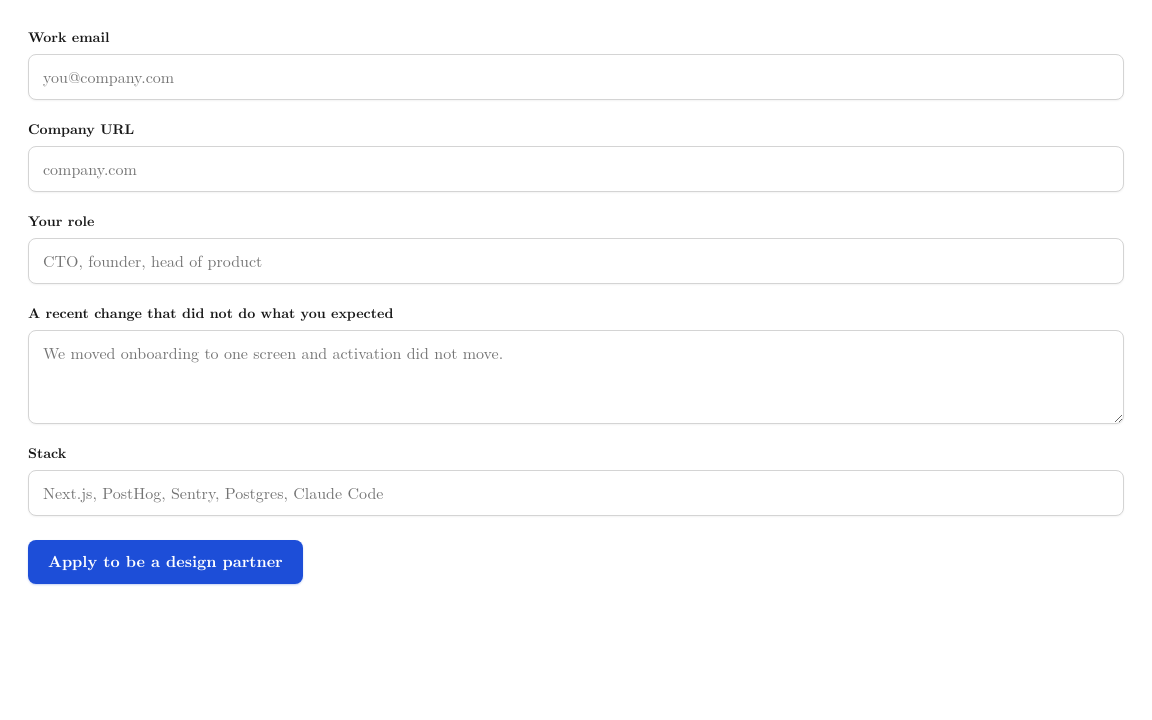
it: ApplyForm › on a server error offers the email fallback and keeps the values
The image size is (1152, 720).
Type "cto@acme.dev" into the field labelled "Work email".
click(576, 77); type("cto@acme.dev")  # box [28, 54, 1124, 100]
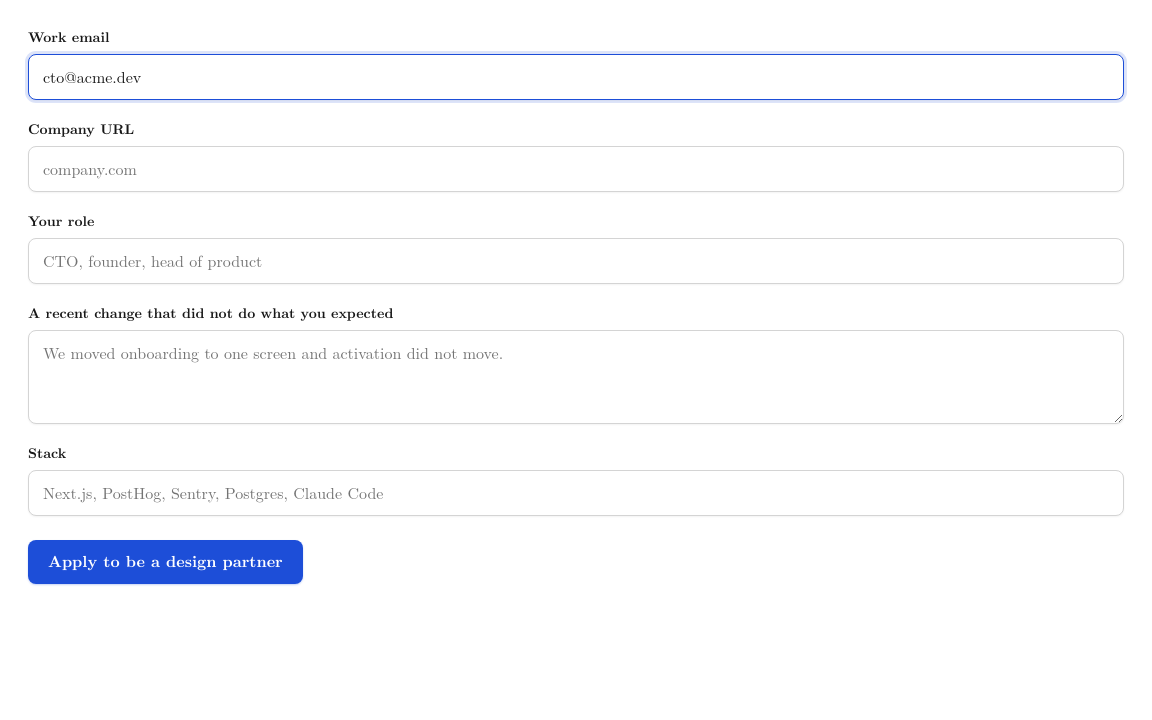
Type "acme.dev" into the field labelled "Company URL".
click(576, 169); type("acme.dev")  # box [28, 146, 1124, 192]
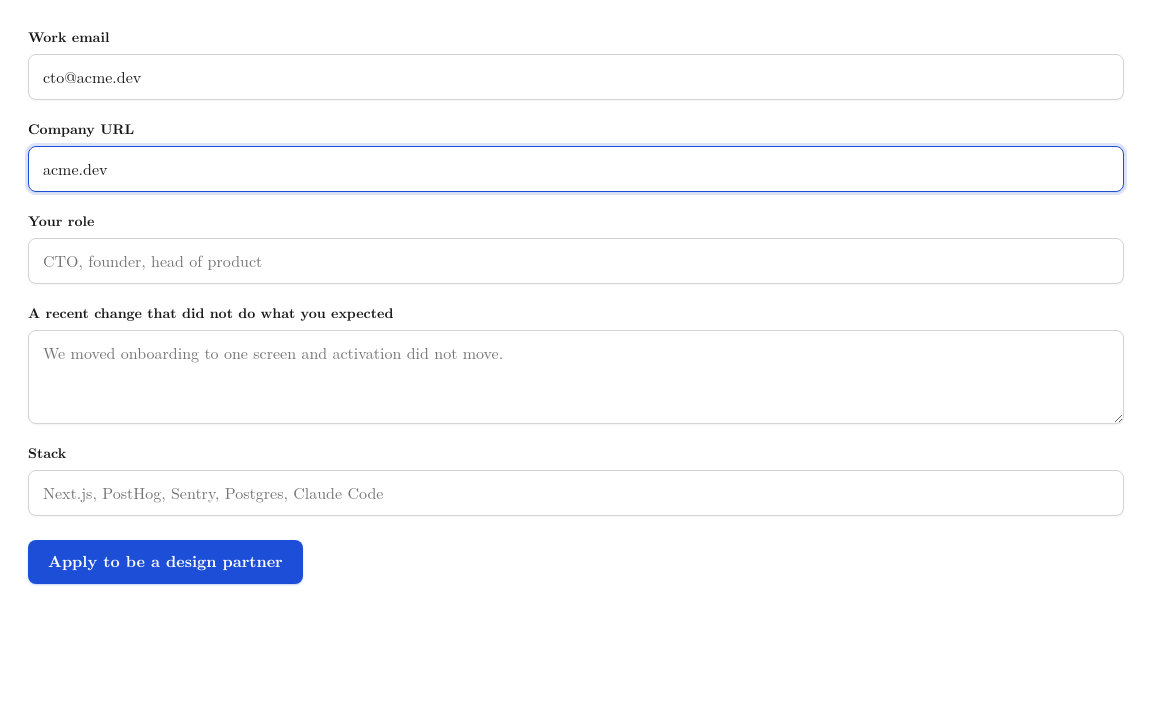
Type "CTO" into the field labelled "Your role".
click(576, 261); type("CTO")  # box [28, 238, 1124, 284]
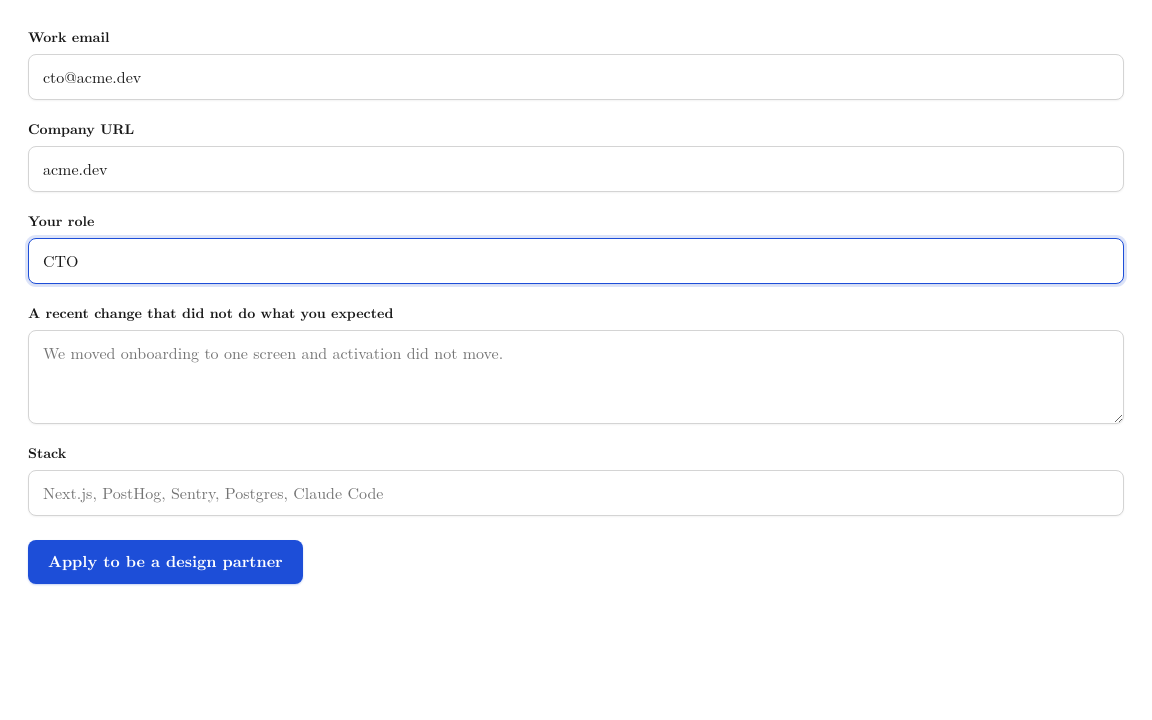
Type "We moved onboarding and nothing changed." into the text box labelled "A recent change that did not do what you expected".
click(576, 377); type("We moved onboarding and nothing changed.")  # box [28, 330, 1124, 424]
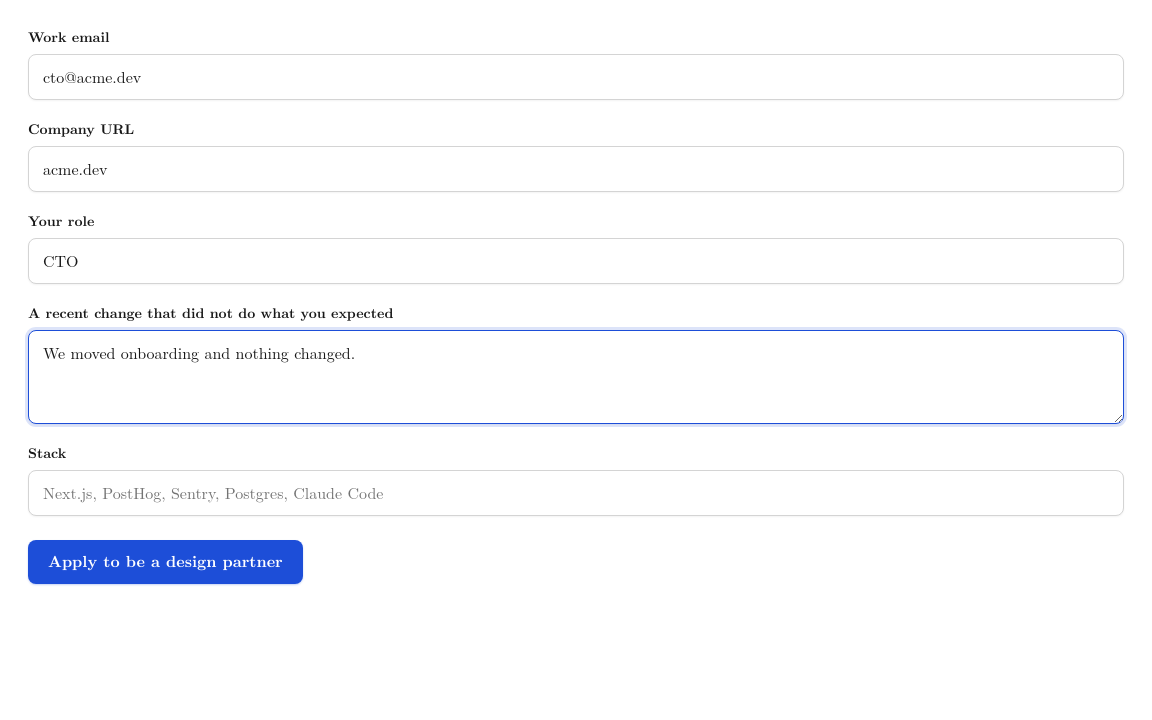
Type "Next.js, PostHog" into the field labelled "Stack".
click(576, 493); type("Next.js, PostHog")  # box [28, 470, 1124, 516]
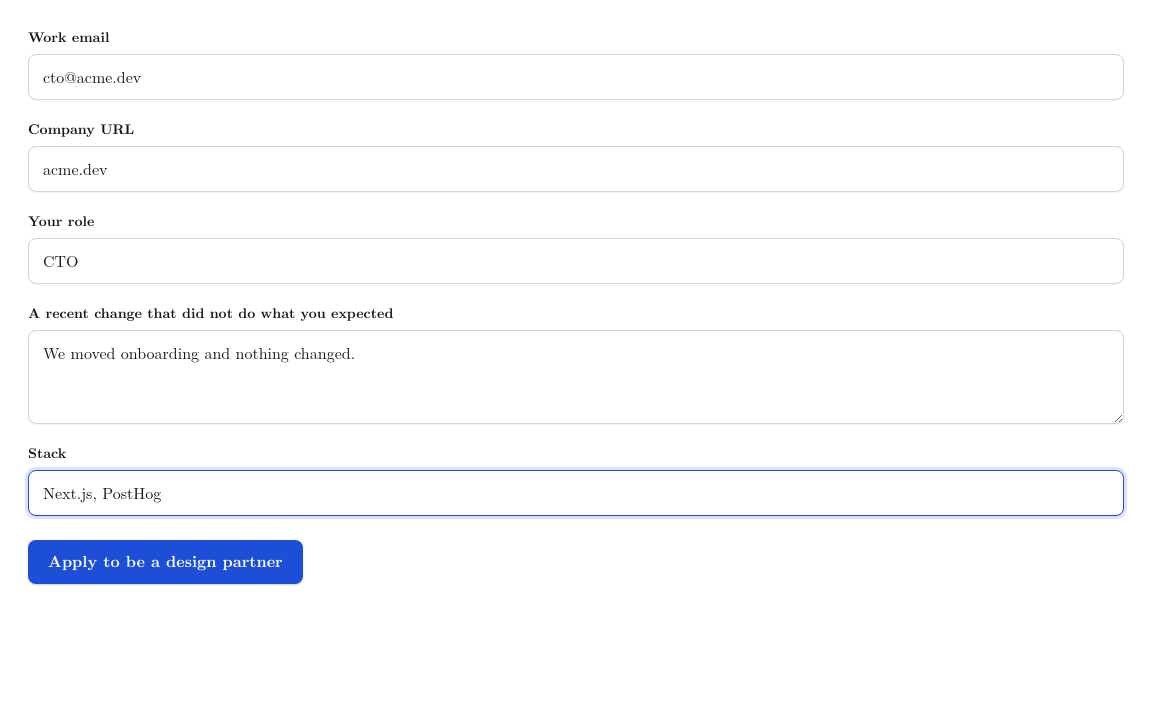
Click the button "Apply to be a design partner".
click(165, 562)  # box [28, 540, 303, 584]
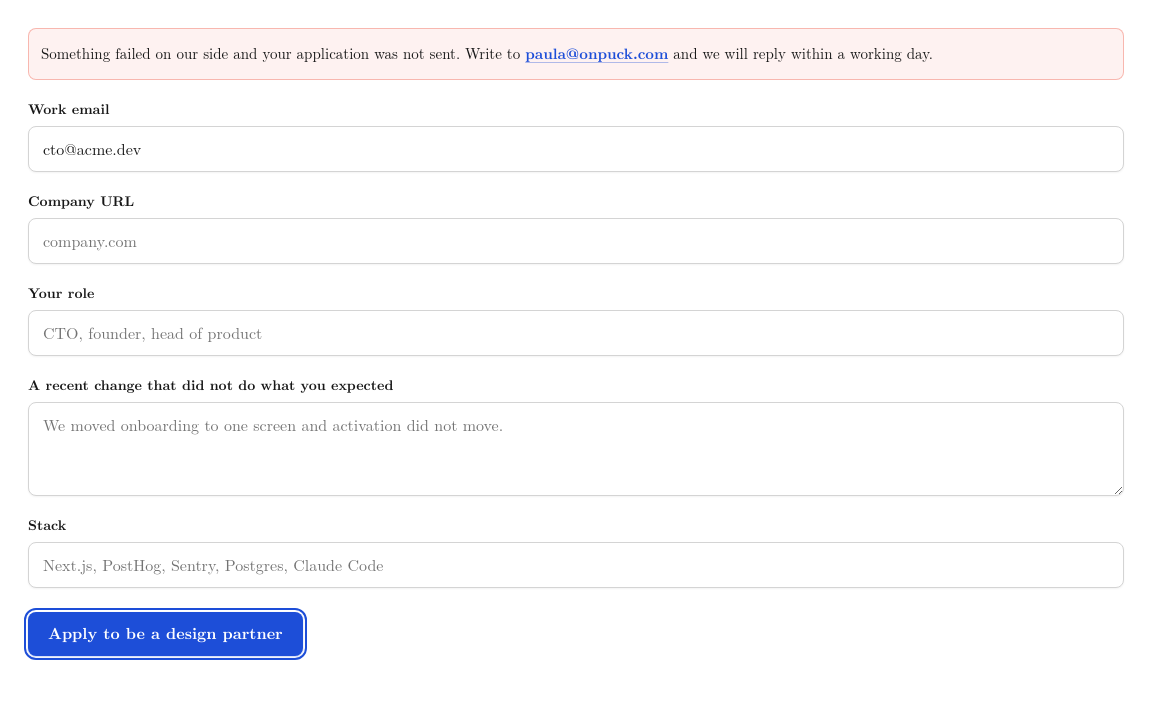
Expected: the message shows "paula@onpuck.com", [525, 45, 668, 64]
